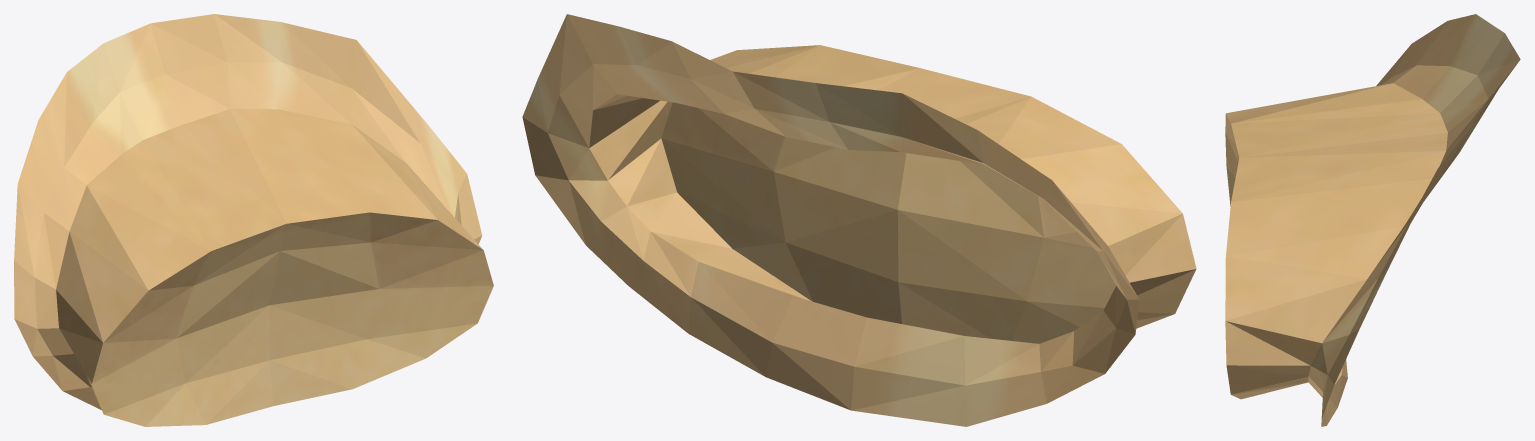
The model's file is source1NJD.obj.
3 renders of one model, left to right at view 1: azimuth 30°, elevation 25°; view 2: azimuth 150°, elevation 25°; view 3: azimuth 270°, elevation 25°, orthographic. The views are drawn at different scales.
Parts seen in each view (by area): view 1: source1NJD; view 2: source1NJD; view 3: source1NJD.
Part boxes in pixels (bbox=[...]): source1NJD: bbox=[14, 14, 493, 426]; source1NJD: bbox=[522, 14, 1196, 426]; source1NJD: bbox=[1225, 14, 1520, 426].
Size of the model in its own units: 3.57 by 2.36 by 1.95.
